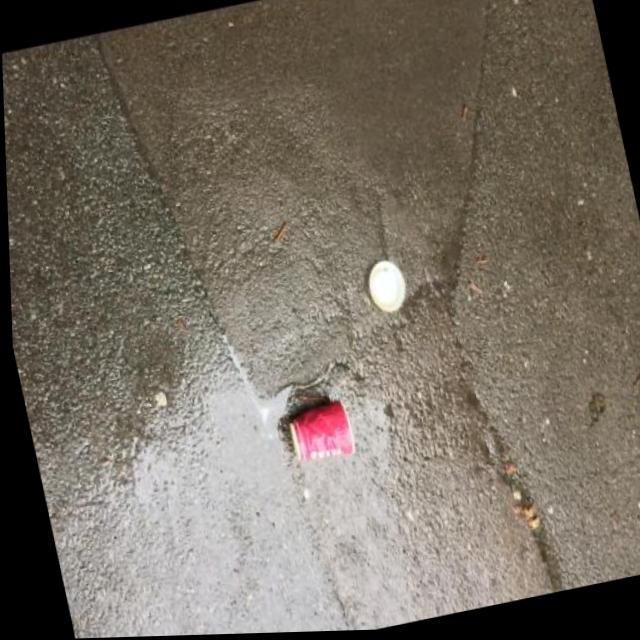cardboard: (285, 395, 357, 462)
plastic: (362, 255, 410, 315)
